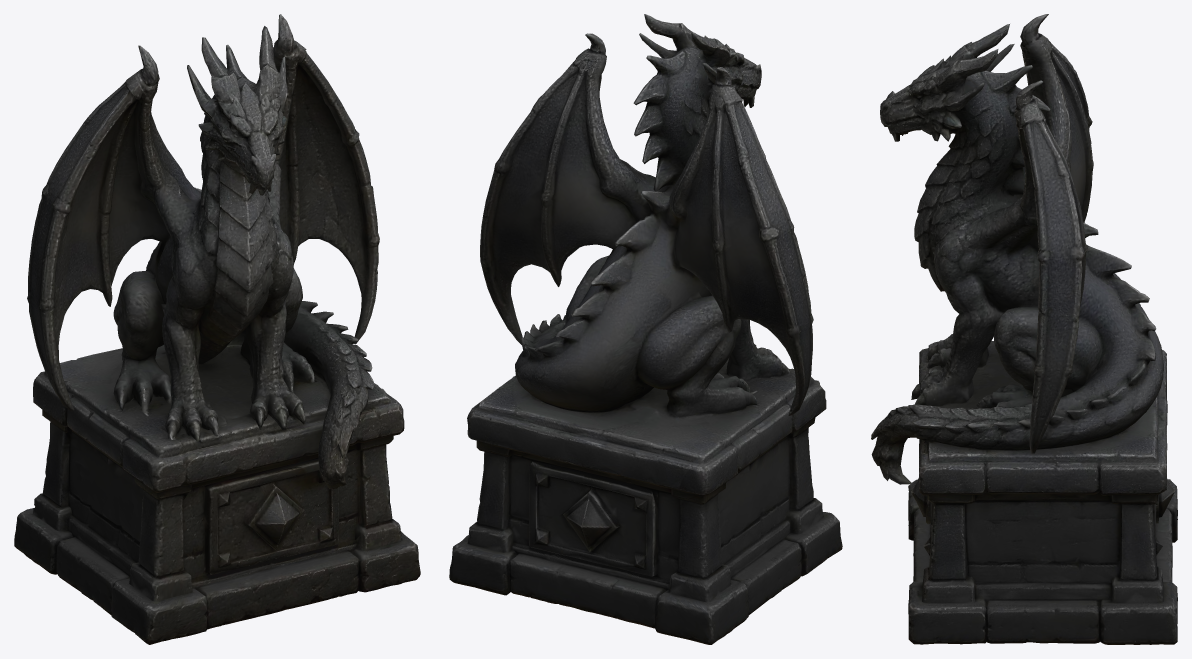
The model's file is Dragon_Statue.fbx.
The picture shows the model from 3 angles, left to right: view 1: azimuth 30°, elevation 25°; view 2: azimuth 150°, elevation 25°; view 3: azimuth 270°, elevation 25°; orthographic projection. The views are drawn at different scales.
Visible parts, largest first — view 1: Dragon_Statue; view 2: Dragon_Statue; view 3: Dragon_Statue.
Boxes of the visible parts, left/top/right/bottom form: Dragon_Statue: left=14, top=14, right=420, bottom=644; Dragon_Statue: left=449, top=14, right=842, bottom=644; Dragon_Statue: left=871, top=14, right=1177, bottom=644.
Size of the model in its own units: 175 by 274 by 141.
1 material, 1 textured.
